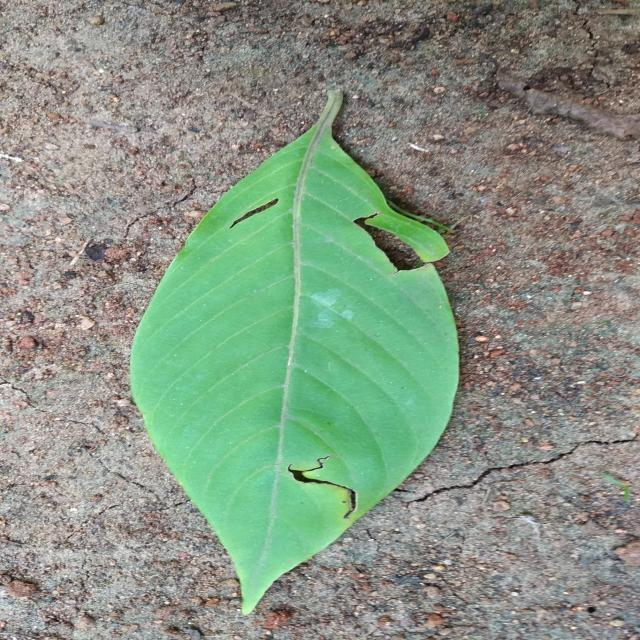leaf spot: (131, 90, 458, 614)
